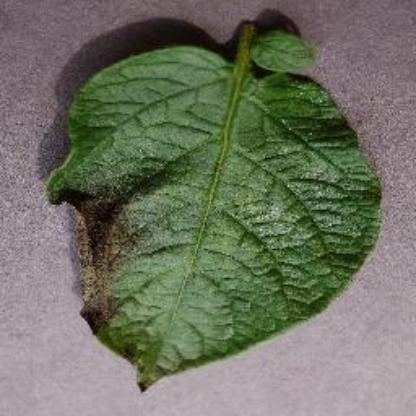Late-Blight: (44, 28, 394, 404)
